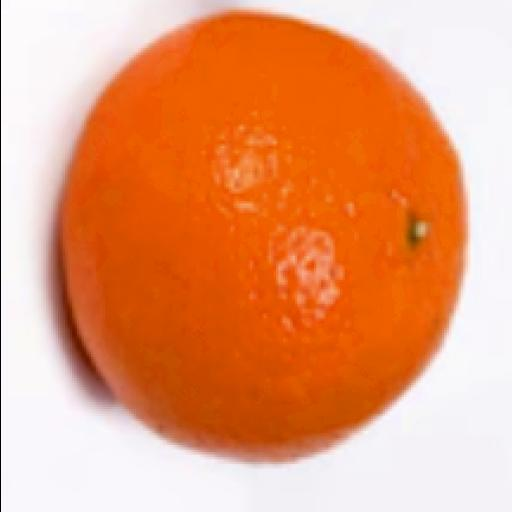orange: (62, 12, 464, 461)
